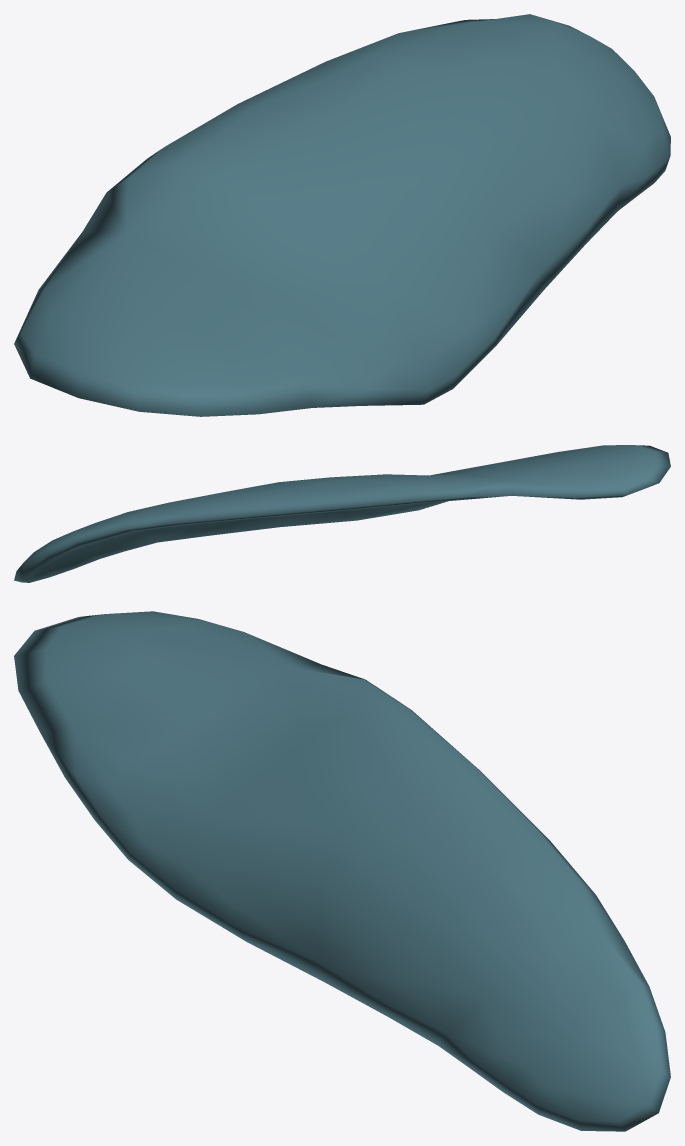
File: Piriformis_muscle_in_trochanteric_fossa.r_Generated_Mesh_From_X.glb
3 views of the same model, one above another, from view 1: azimuth 30°, elevation 25°; view 2: azimuth 150°, elevation 25°; view 3: azimuth 270°, elevation 25° (orthographic). The views are drawn at different scales.
Visible parts, largest first — view 1: Piriformis_muscle_in_trochanteric_fossa.r_Generated_Mesh_Fro; view 2: Piriformis_muscle_in_trochanteric_fossa.r_Generated_Mesh_Fro; view 3: Piriformis_muscle_in_trochanteric_fossa.r_Generated_Mesh_Fro.
Boxes of the visible parts, <box> form: Piriformis_muscle_in_trochanteric_fossa.r_Generated_Mesh_Fro: <box>14,14,670,416</box>; Piriformis_muscle_in_trochanteric_fossa.r_Generated_Mesh_Fro: <box>14,445,670,582</box>; Piriformis_muscle_in_trochanteric_fossa.r_Generated_Mesh_Fro: <box>14,611,670,1131</box>.
Bounding box in the file's own units: 0.0156 × 0.00382 × 0.0119.
